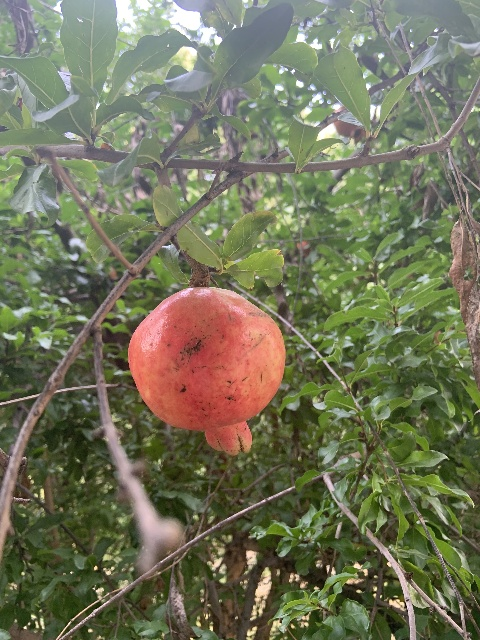ripe: (127, 286, 286, 454)
